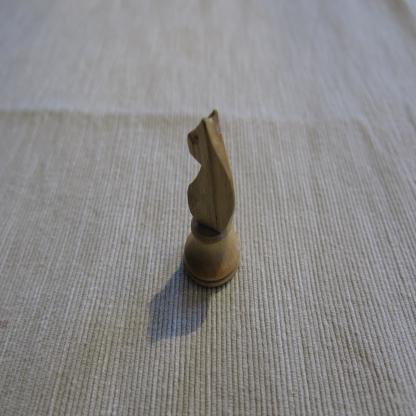white-knight: (183, 107, 242, 291)
